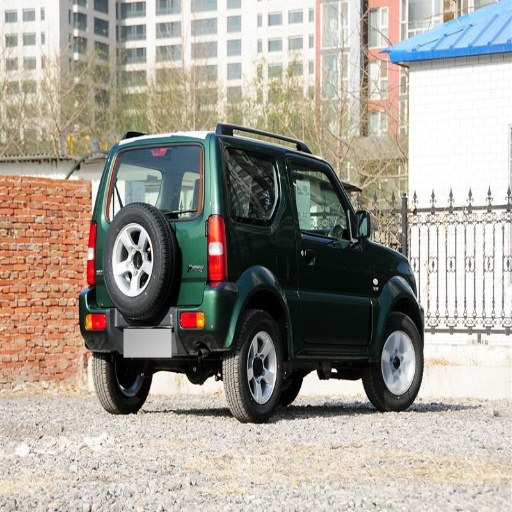back_right_door: (274, 153, 335, 342)
trunk: (134, 164, 216, 285), (197, 266, 249, 350)
